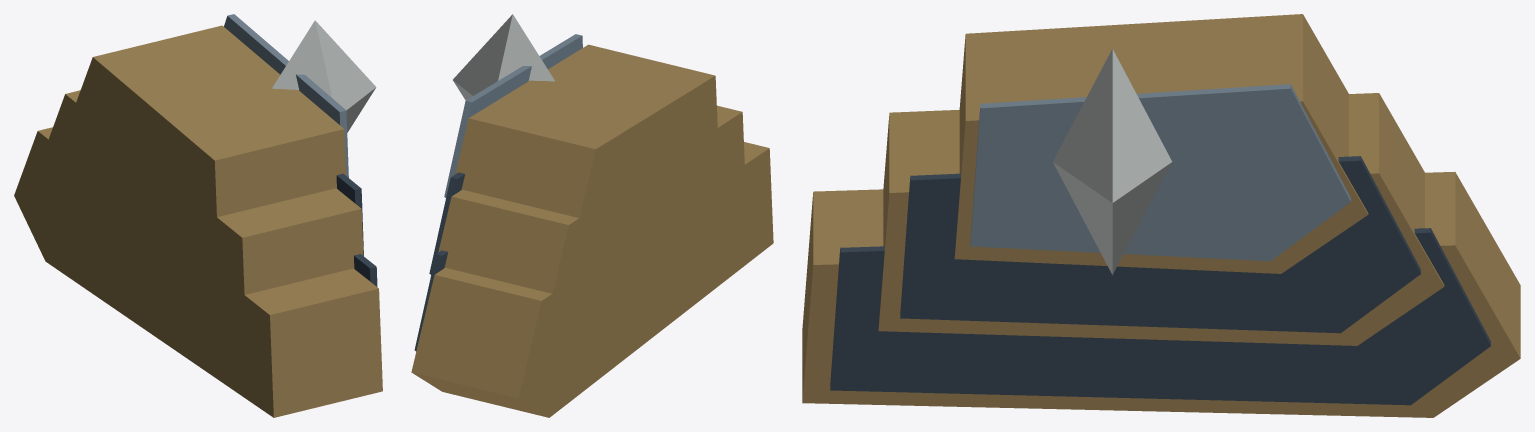
File: SM_PG_GuardianPauldron.fbx
3 views of the same model, side by side, from view 1: azimuth 30°, elevation 25°; view 2: azimuth 150°, elevation 25°; view 3: azimuth 270°, elevation 25° (orthographic). The views are drawn at different scales.
Parts seen in each view (by area): view 1: SM_PG_GuardianPauldron; view 2: SM_PG_GuardianPauldron; view 3: SM_PG_GuardianPauldron.
Part boxes in pixels (bbox=[...]): SM_PG_GuardianPauldron: bbox=[14, 14, 382, 417]; SM_PG_GuardianPauldron: bbox=[411, 14, 773, 417]; SM_PG_GuardianPauldron: bbox=[802, 14, 1520, 417].
Bounding box in the file's own units: 31.5 × 66 × 40.5.
